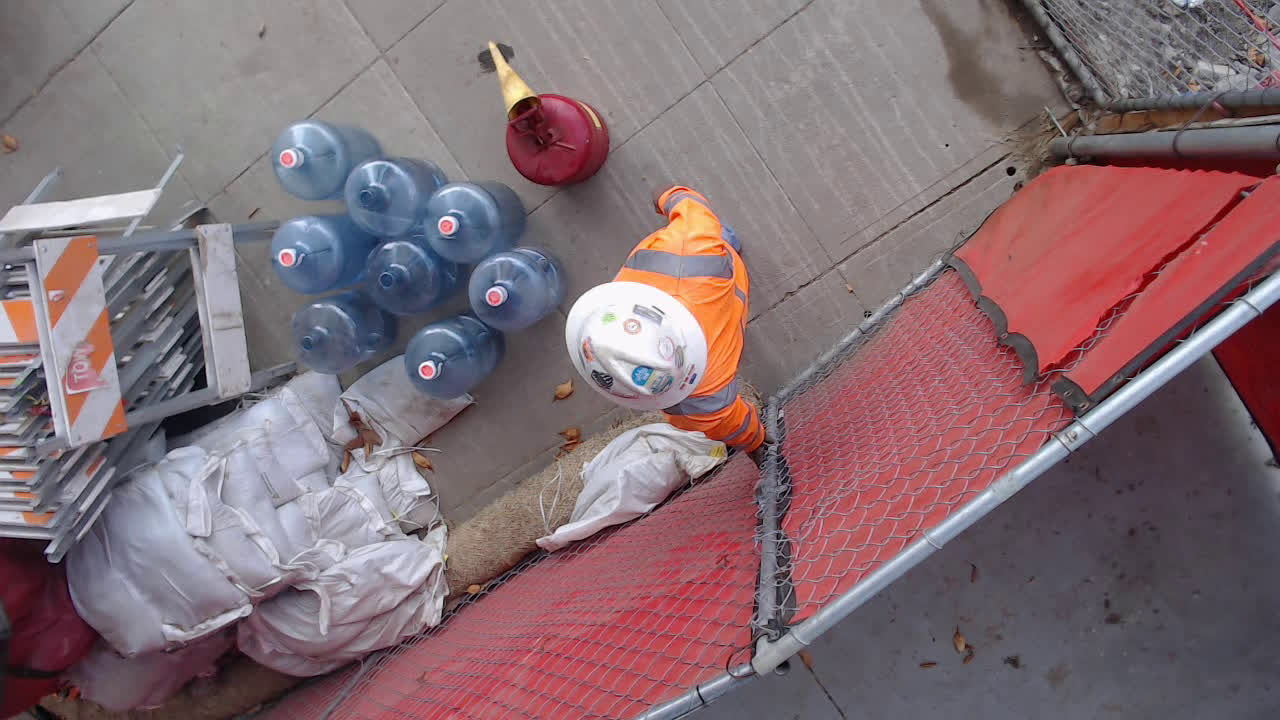hardhat: (562, 282, 709, 413)
safetyvest: (614, 184, 771, 456)
